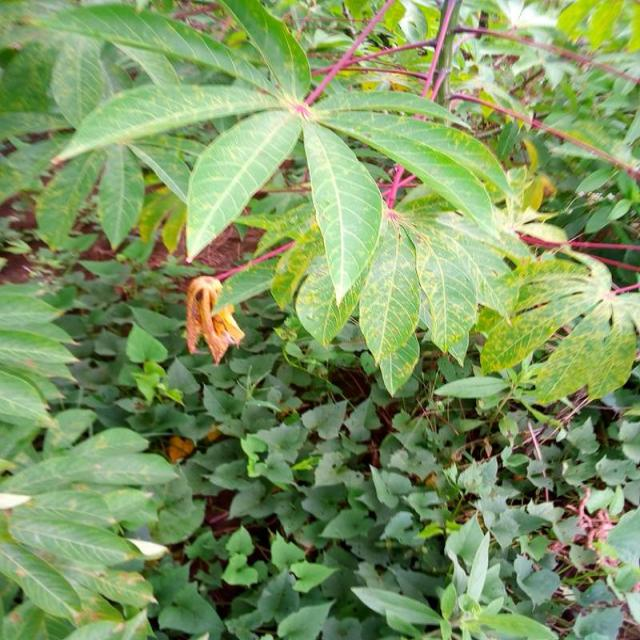cassava leaf: (22, 1, 636, 406), (185, 106, 302, 264), (301, 112, 384, 306)
